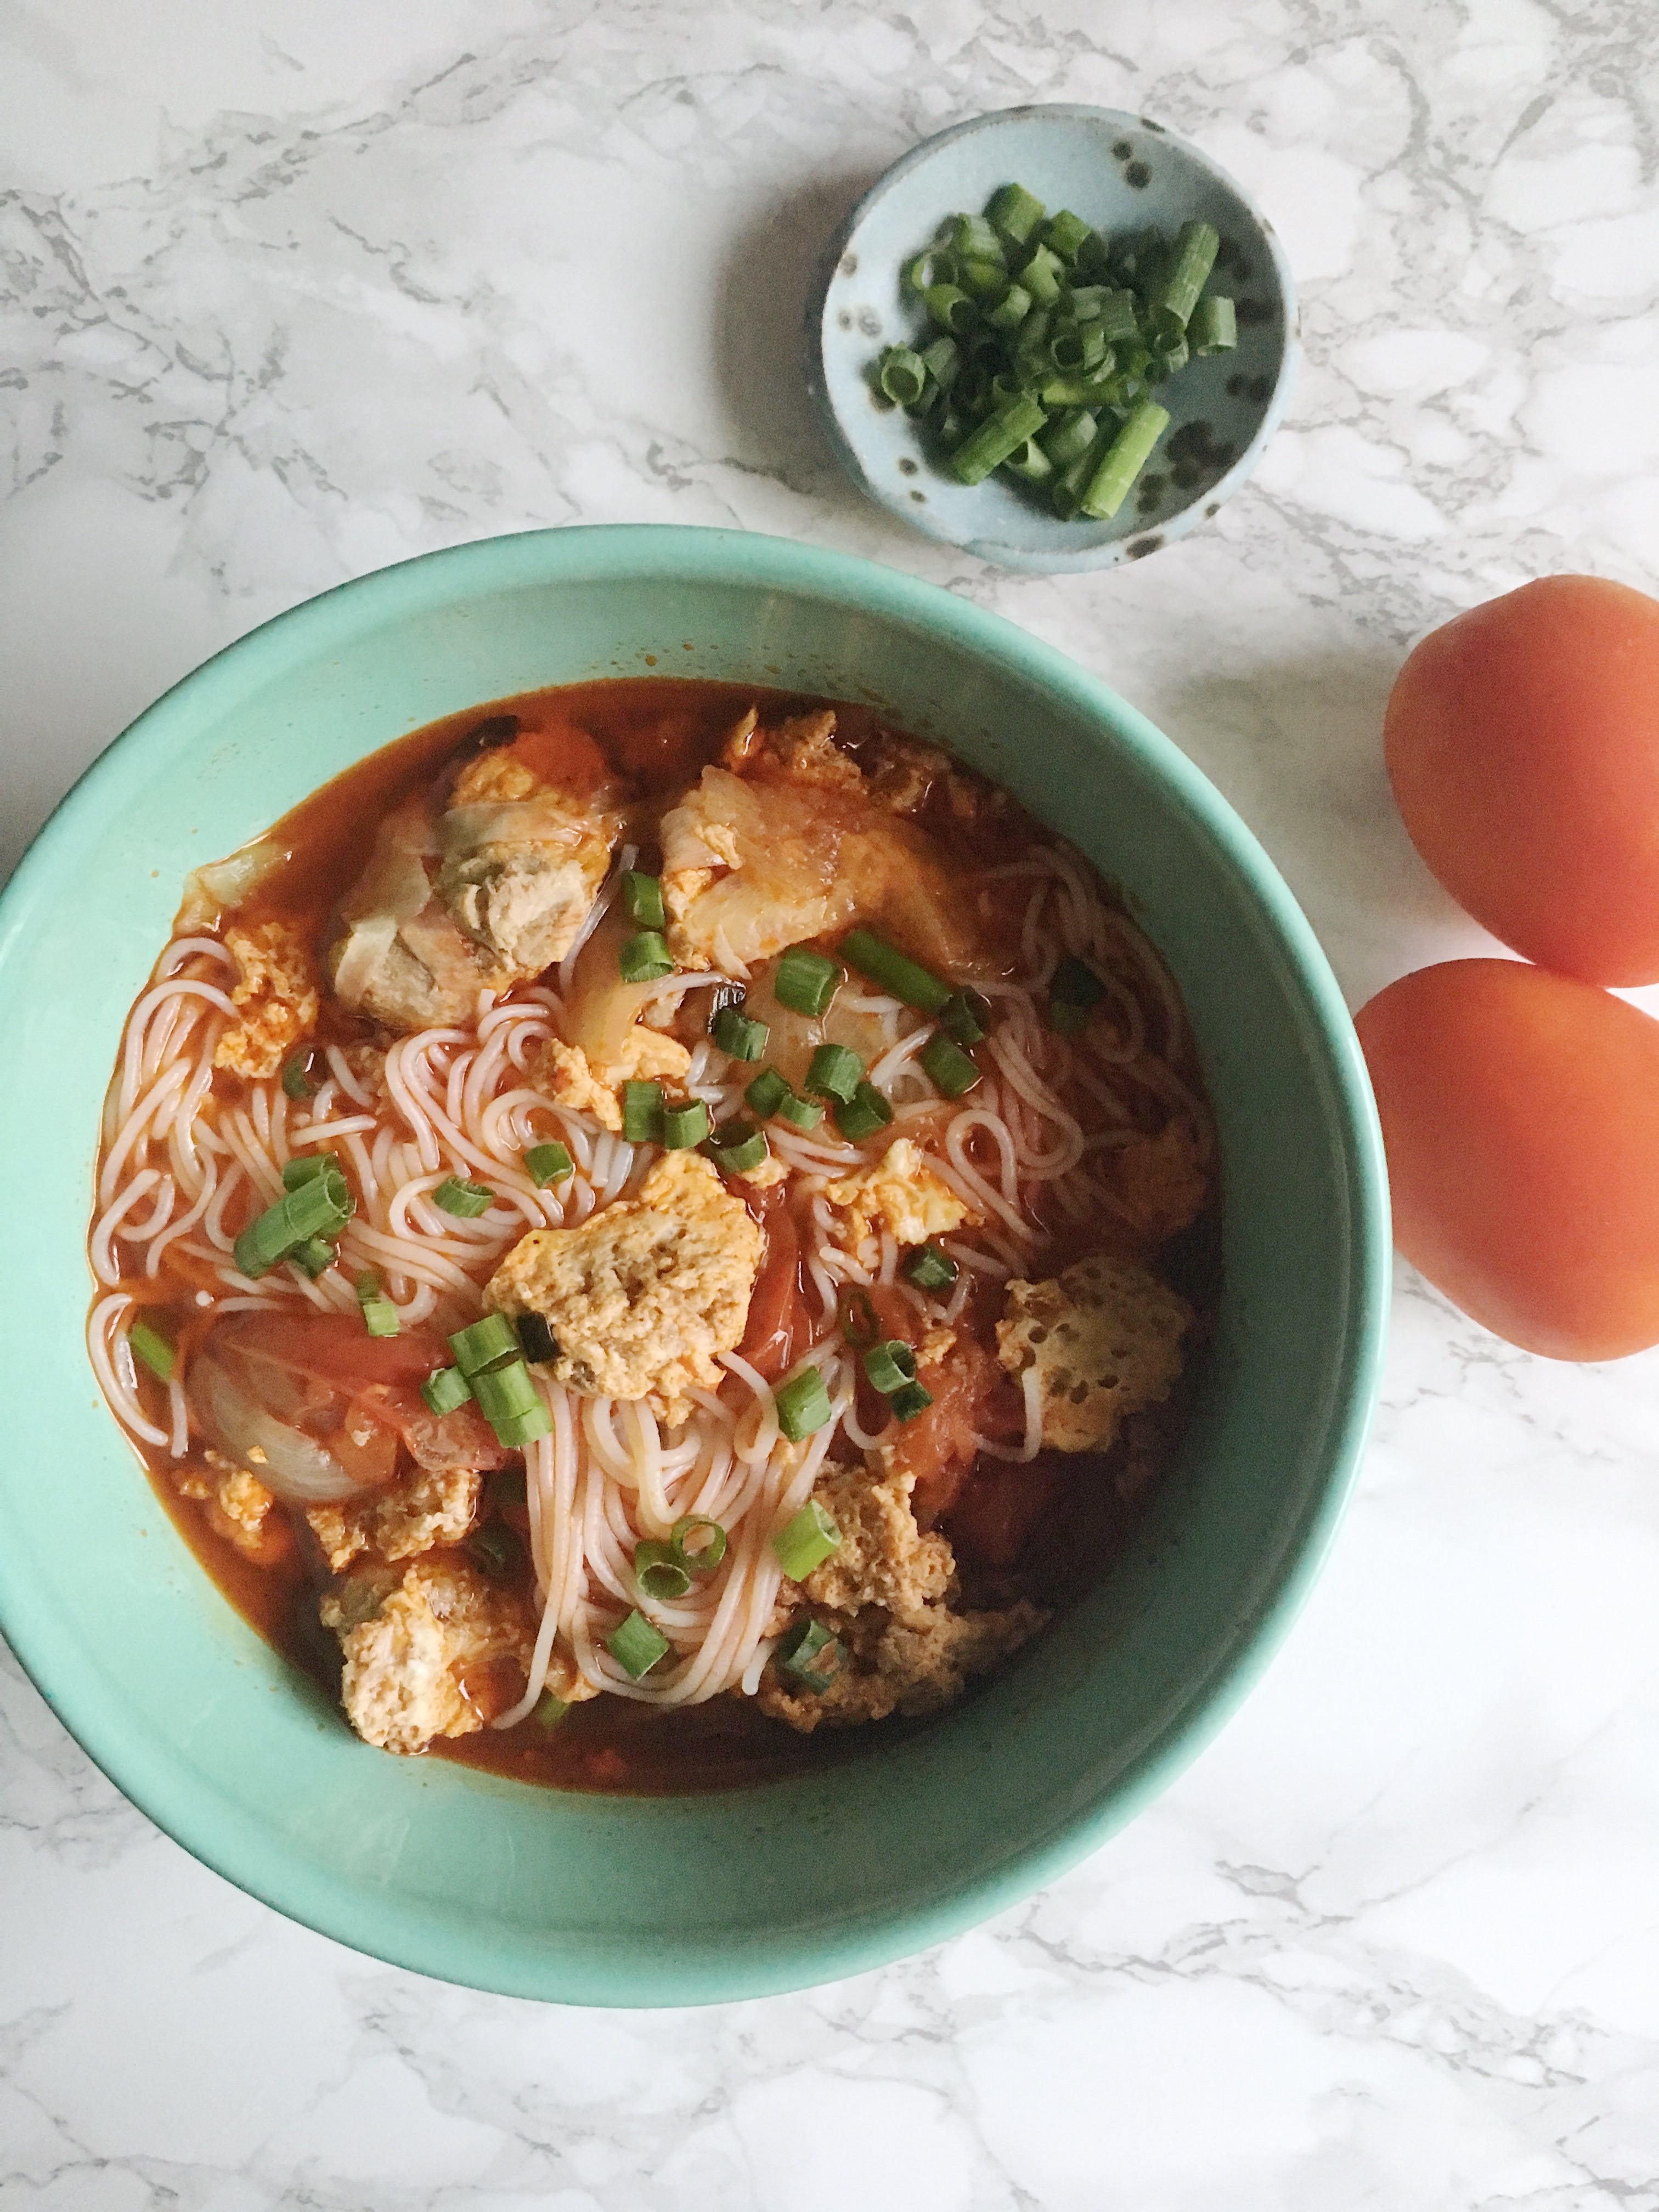onion: (938, 235, 1190, 455)
rieu: (509, 1177, 753, 1379), (995, 1268, 1199, 1428), (331, 1573, 491, 1764)
